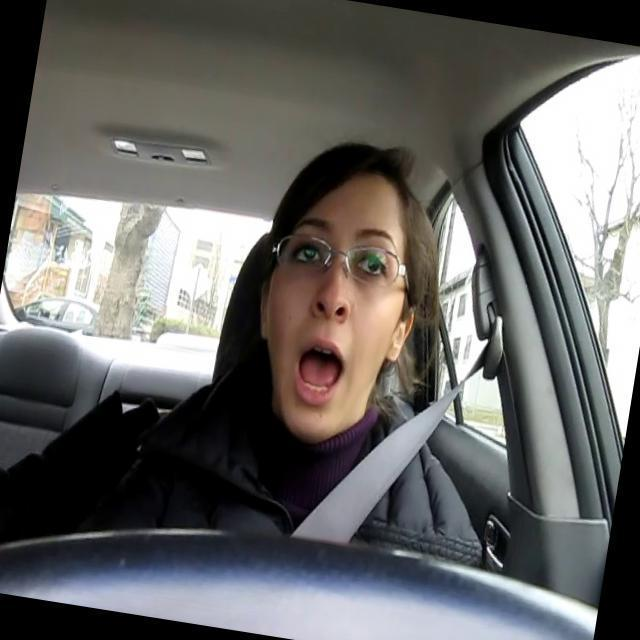open-mouth: (292, 339, 344, 404)
